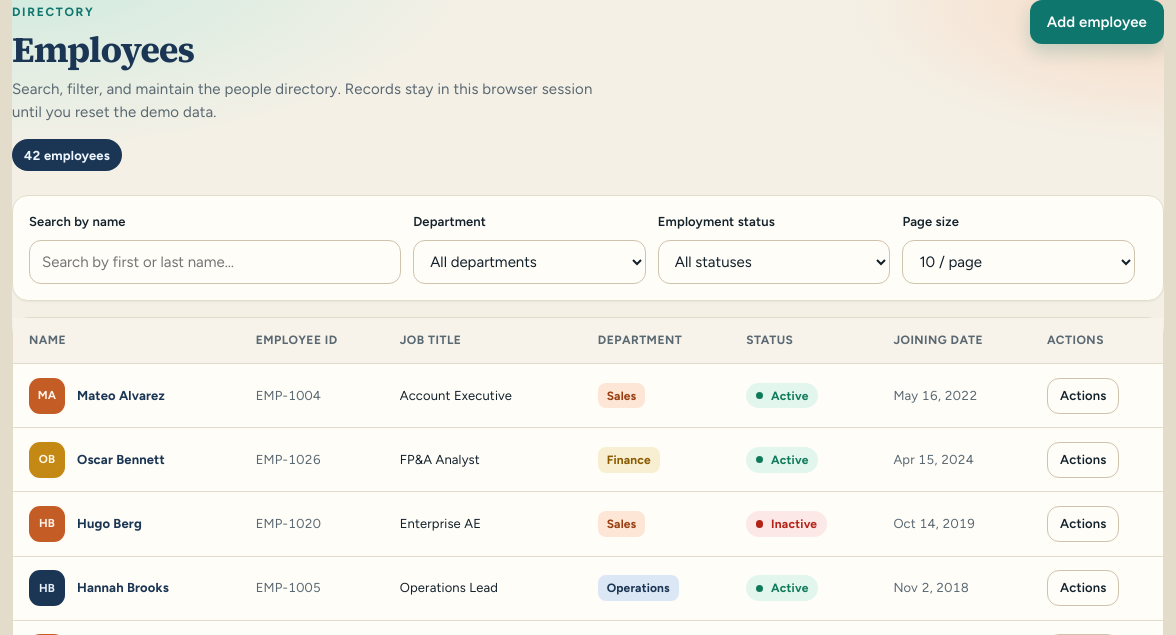
Test: Employee list › filters by department
Select "Engineering" in the dropdown labelled "Department" at (530, 262), box 413,240 -> 646,284
(page scrolled)
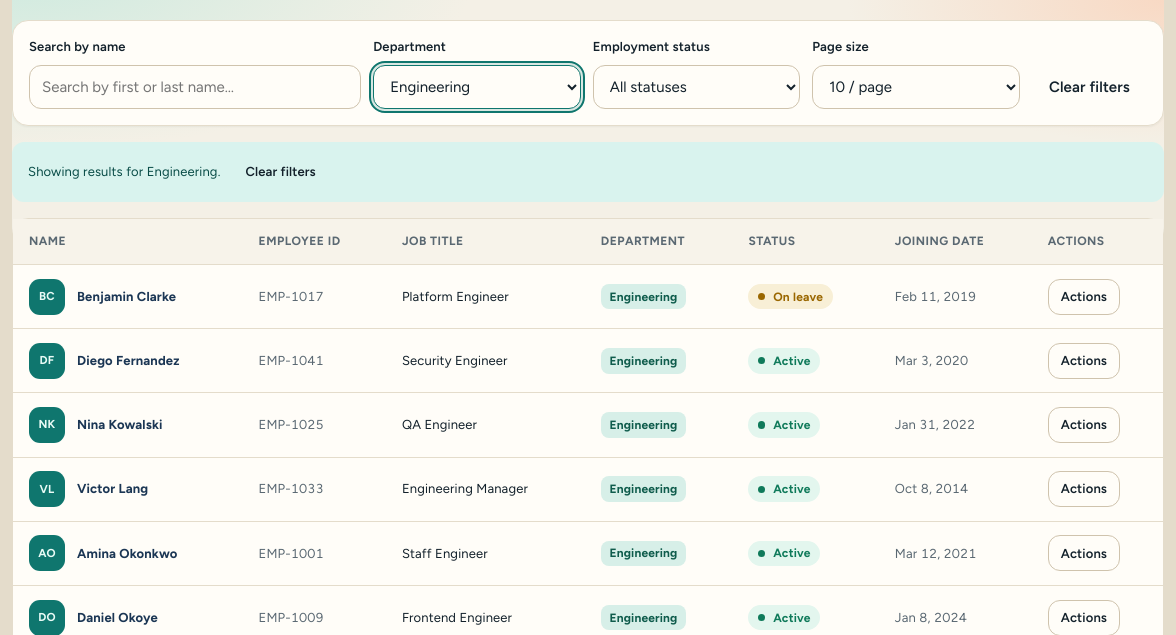
Check: the text "Staff Engineer" is shown, box 402,546 -> 488,561
Check: the text "James Chen" is not shown
